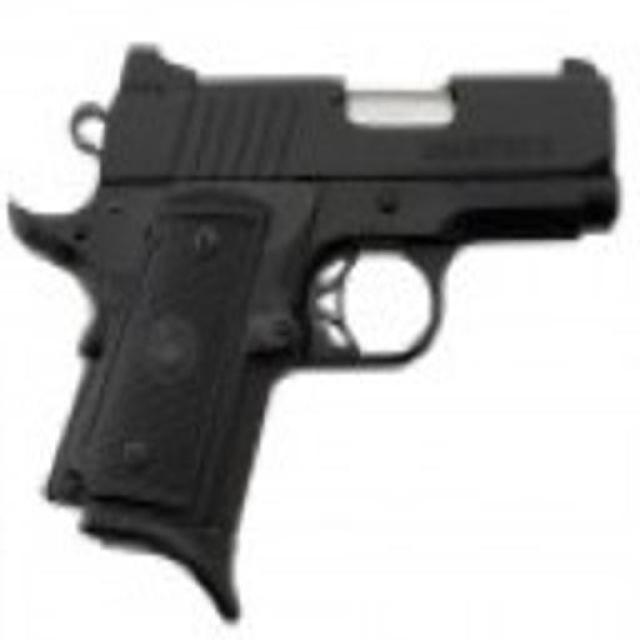pistol: (4, 42, 620, 612)
